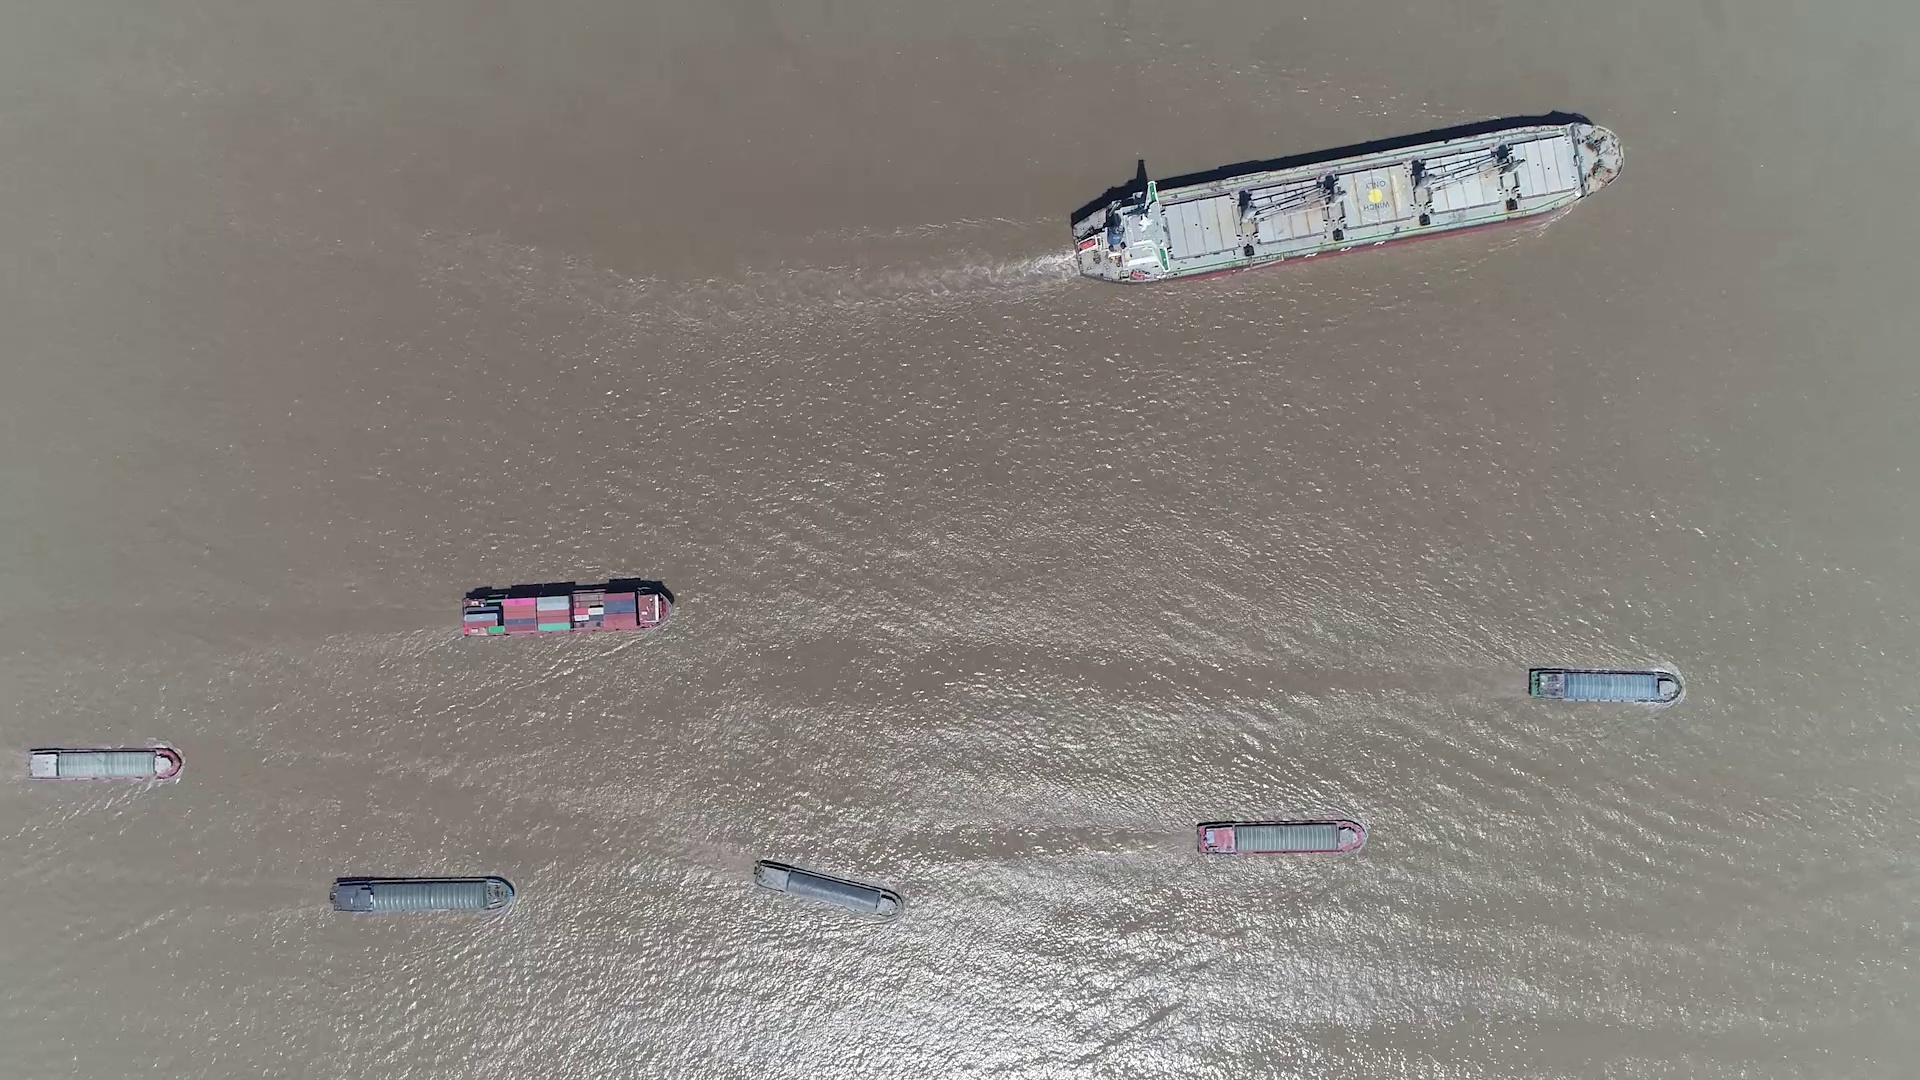ship: (1069, 124, 1625, 280), (460, 585, 673, 638), (752, 860, 903, 916), (330, 876, 513, 913), (1197, 819, 1365, 857), (1524, 666, 1683, 703), (28, 746, 181, 781)
